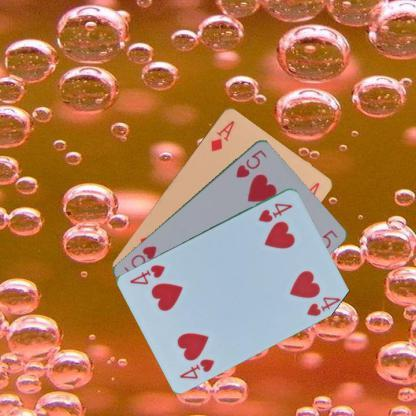4h: (177, 356, 216, 380), (256, 200, 294, 223)
5h: (233, 146, 268, 180)
Ad: (207, 118, 236, 152)
